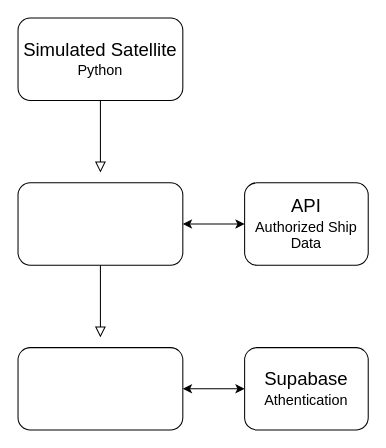
The diagram is 386 pixels wide and 448 high, and some of its shapes have lost their labels. Here are the shapes that lost their labels. From the top down, the centre of each, then its label:
At (100,223): "Backend Flask / SQLite".
At (100,388): "Frontend React + Vite".
